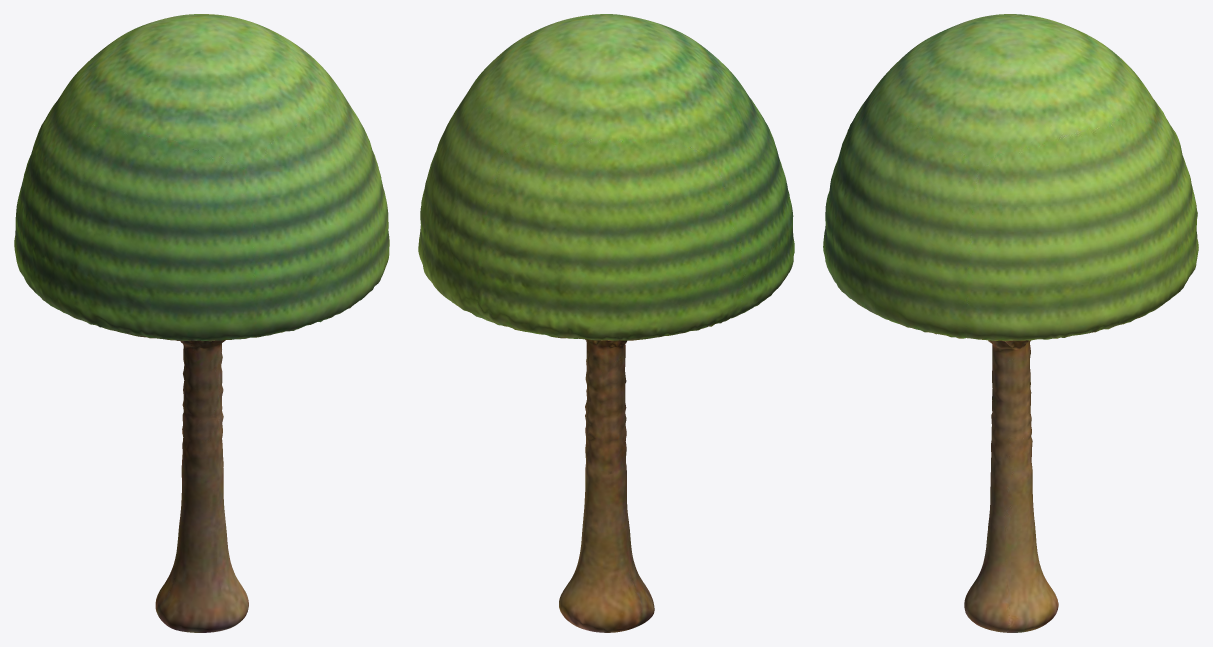
The model's file is model_0191db05-3edc-76ad-91e3-3d8b2a71477e.glb.
3 views of the same model, side by side, from view 1: azimuth 30°, elevation 25°; view 2: azimuth 150°, elevation 25°; view 3: azimuth 270°, elevation 25° (orthographic).
Visible parts, largest first — view 1: Mesh1; view 2: Mesh1; view 3: Mesh1.
Boxes of the visible parts, x1=… form: Mesh1: x1=14, y1=14, x2=389, y2=632; Mesh1: x1=418, y1=14, x2=794, y2=632; Mesh1: x1=823, y1=14, x2=1198, y2=632.
Size of the model in its own units: 0.6872 by 1.2 by 0.6865.
1 material, 1 textured.
